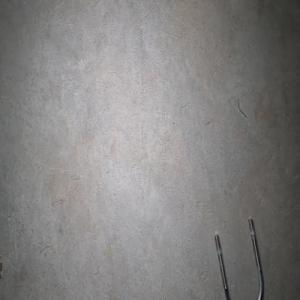ClampPart: (213, 217, 265, 300)
